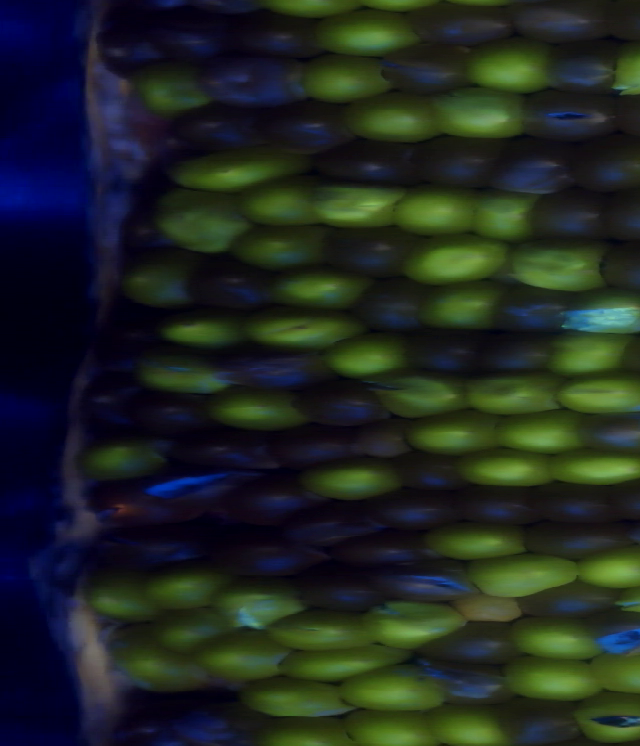fluorescent: (162, 139, 324, 199), (146, 186, 260, 259), (102, 627, 219, 695), (238, 299, 376, 356), (393, 229, 515, 290), (354, 591, 473, 653), (505, 233, 617, 298), (358, 362, 477, 423), (267, 640, 415, 689), (226, 668, 355, 723), (425, 81, 534, 146), (462, 546, 588, 602), (460, 29, 559, 98), (334, 659, 453, 716), (284, 453, 411, 506), (307, 2, 425, 59), (235, 170, 337, 235), (340, 86, 445, 149), (121, 53, 220, 119), (221, 219, 335, 276), (70, 429, 180, 488), (495, 650, 611, 705), (261, 262, 379, 316), (208, 578, 311, 639), (387, 179, 485, 242), (265, 606, 386, 657), (190, 620, 291, 680), (418, 516, 539, 566), (305, 178, 414, 233), (296, 47, 395, 107), (135, 342, 237, 400), (203, 383, 312, 437), (506, 610, 611, 666), (401, 406, 507, 460), (491, 403, 592, 459), (317, 327, 417, 383), (459, 367, 566, 419), (153, 303, 259, 354), (544, 326, 640, 382), (139, 560, 235, 615), (454, 441, 560, 490), (414, 276, 505, 333), (144, 604, 245, 655), (115, 249, 199, 310), (75, 567, 163, 624), (550, 365, 640, 419), (557, 282, 640, 340), (470, 184, 545, 248), (418, 698, 515, 746), (545, 443, 640, 489), (245, 709, 358, 746), (341, 704, 439, 746), (574, 688, 640, 746), (572, 540, 640, 593), (586, 646, 640, 701), (588, 607, 640, 661), (605, 33, 640, 100), (605, 575, 640, 626)
nonfluorescent: (200, 336, 346, 399), (160, 418, 291, 481), (151, 684, 275, 746), (407, 128, 516, 197), (250, 95, 365, 159), (193, 51, 315, 111), (513, 85, 630, 147), (214, 521, 330, 582), (318, 221, 426, 284), (314, 133, 427, 192), (285, 371, 390, 433), (395, 1, 522, 52), (73, 478, 188, 534), (94, 294, 173, 375), (489, 138, 593, 199), (144, 462, 273, 511), (178, 255, 283, 315), (410, 614, 522, 670), (369, 554, 485, 608), (127, 381, 225, 444), (378, 35, 475, 98), (264, 416, 365, 476), (165, 97, 271, 154), (91, 10, 177, 79), (284, 491, 384, 550), (115, 519, 222, 574), (292, 559, 390, 619), (147, 6, 237, 70), (485, 281, 584, 339), (211, 477, 321, 529), (79, 367, 154, 443), (519, 519, 640, 566), (539, 32, 624, 98), (523, 187, 614, 248), (495, 693, 597, 746), (232, 10, 332, 64), (396, 322, 489, 380), (359, 483, 464, 534), (510, 1, 618, 50), (465, 325, 563, 379), (515, 578, 625, 626), (565, 129, 640, 199), (420, 658, 522, 709), (330, 524, 438, 572), (527, 478, 623, 529), (450, 481, 545, 532), (345, 276, 427, 333), (106, 209, 187, 262), (387, 447, 470, 497), (571, 405, 640, 464), (345, 414, 415, 465), (595, 233, 640, 299), (599, 181, 640, 247), (599, 1, 640, 47), (605, 473, 640, 522)
